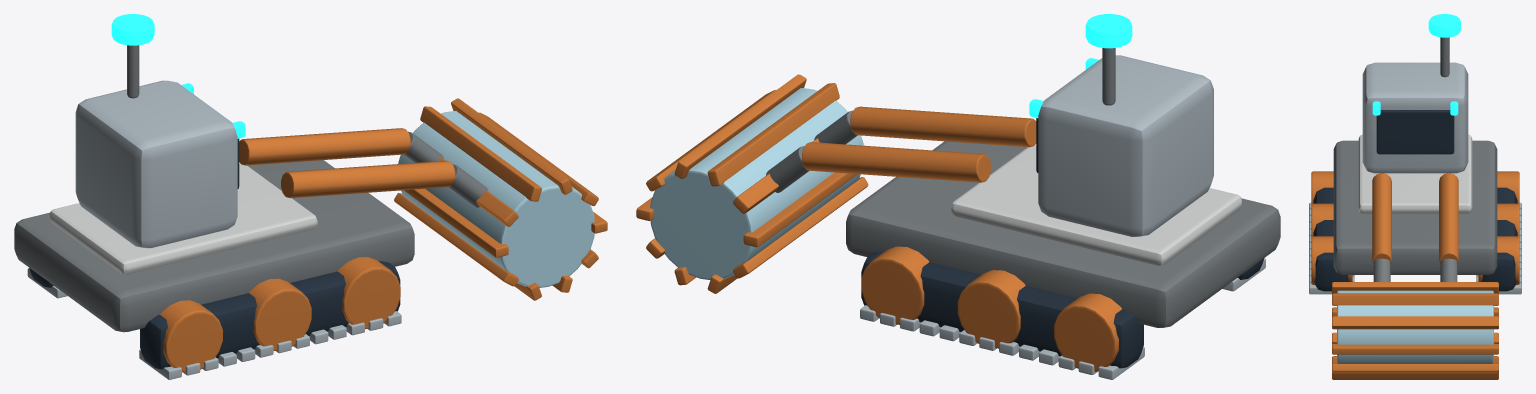
The model's file is polar-excavator.glb.
3 renders of one model, left to right at view 1: azimuth 30°, elevation 25°; view 2: azimuth 150°, elevation 25°; view 3: azimuth 270°, elevation 25°, orthographic. The views are drawn at different scales.
Visible parts, largest first — view 1: RenderBatch_PolarExcavator_POLAR_EXC_Body, RenderBatch_PolarExcavator_POLAR_EXC_Frame, PolarExcavator_AugerDrum, RenderBatch_PolarExcavator_AugerPivot_POLAR_EXC_SafetyOrange, RenderBatch_PolarExcavator_POLAR_EXC_SafetyOrange, RenderBatch_PolarExcavator_BoomPivot_POLAR_EXC_SafetyOrange, PolarExcavator_EquipmentDeck, RenderBatch_PolarExcavator_POLAR_EXC_DarkService, RenderBatch_PolarExcavator_BoomPivot_POLAR_EXC_Frame, RenderBatch_PolarExcavator_POLAR_EXC_StatusLight; view 2: RenderBatch_PolarExcavator_POLAR_EXC_Body, RenderBatch_PolarExcavator_POLAR_EXC_Frame, PolarExcavator_AugerDrum, RenderBatch_PolarExcavator_AugerPivot_POLAR_EXC_SafetyOrange, RenderBatch_PolarExcavator_POLAR_EXC_SafetyOrange, RenderBatch_PolarExcavator_BoomPivot_POLAR_EXC_SafetyOrange, PolarExcavator_EquipmentDeck, RenderBatch_PolarExcavator_POLAR_EXC_DarkService, RenderBatch_PolarExcavator_POLAR_EXC_StatusLight, RenderBatch_PolarExcavator_BoomPivot_POLAR_EXC_Frame; view 3: RenderBatch_PolarExcavator_POLAR_EXC_Frame, RenderBatch_PolarExcavator_AugerPivot_POLAR_EXC_SafetyOrange, RenderBatch_PolarExcavator_POLAR_EXC_Body, PolarExcavator_AugerDrum, RenderBatch_PolarExcavator_POLAR_EXC_DarkService, PolarExcavator_EquipmentDeck, RenderBatch_PolarExcavator_BoomPivot_POLAR_EXC_SafetyOrange, RenderBatch_PolarExcavator_POLAR_EXC_SafetyOrange, RenderBatch_PolarExcavator_POLAR_EXC_StatusLight, RenderBatch_PolarExcavator_BoomPivot_POLAR_EXC_Frame.
Boxes of the visible parts, x1=… form: RenderBatch_PolarExcavator_POLAR_EXC_Body: x1=27, y1=80, x2=401, y2=379; RenderBatch_PolarExcavator_POLAR_EXC_Frame: x1=14, y1=45, x2=414, y2=332; PolarExcavator_AugerDrum: x1=398, y1=111, x2=594, y2=287; RenderBatch_PolarExcavator_AugerPivot_POLAR_EXC_SafetyOrange: x1=394, y1=98, x2=607, y2=300; RenderBatch_PolarExcavator_POLAR_EXC_SafetyOrange: x1=160, y1=257, x2=400, y2=372; RenderBatch_PolarExcavator_BoomPivot_POLAR_EXC_SafetyOrange: x1=239, y1=128, x2=455, y2=198; PolarExcavator_EquipmentDeck: x1=49, y1=164, x2=317, y2=274; RenderBatch_PolarExcavator_POLAR_EXC_DarkService: x1=29, y1=138, x2=400, y2=369; RenderBatch_PolarExcavator_BoomPivot_POLAR_EXC_Frame: x1=404, y1=131, x2=488, y2=207; RenderBatch_PolarExcavator_POLAR_EXC_StatusLight: x1=111, y1=14, x2=245, y2=138; RenderBatch_PolarExcavator_POLAR_EXC_Body: x1=860, y1=55, x2=1265, y2=379; RenderBatch_PolarExcavator_POLAR_EXC_Frame: x1=846, y1=48, x2=1280, y2=327; PolarExcavator_AugerDrum: x1=650, y1=88, x2=863, y2=279; RenderBatch_PolarExcavator_AugerPivot_POLAR_EXC_SafetyOrange: x1=636, y1=74, x2=868, y2=293; RenderBatch_PolarExcavator_POLAR_EXC_SafetyOrange: x1=861, y1=246, x2=1121, y2=371; RenderBatch_PolarExcavator_BoomPivot_POLAR_EXC_SafetyOrange: x1=802, y1=106, x2=1036, y2=182; PolarExcavator_EquipmentDeck: x1=951, y1=145, x2=1241, y2=265; RenderBatch_PolarExcavator_POLAR_EXC_DarkService: x1=861, y1=118, x2=1264, y2=368; RenderBatch_PolarExcavator_POLAR_EXC_StatusLight: x1=1029, y1=14, x2=1132, y2=118; RenderBatch_PolarExcavator_BoomPivot_POLAR_EXC_Frame: x1=766, y1=110, x2=857, y2=192; RenderBatch_PolarExcavator_POLAR_EXC_Frame: x1=1333, y1=37, x2=1497, y2=274; RenderBatch_PolarExcavator_AugerPivot_POLAR_EXC_SafetyOrange: x1=1332, y1=282, x2=1498, y2=379; RenderBatch_PolarExcavator_POLAR_EXC_Body: x1=1309, y1=62, x2=1521, y2=294; PolarExcavator_AugerDrum: x1=1337, y1=290, x2=1493, y2=363; RenderBatch_PolarExcavator_POLAR_EXC_DarkService: x1=1313, y1=110, x2=1517, y2=291; PolarExcavator_EquipmentDeck: x1=1358, y1=134, x2=1472, y2=213; RenderBatch_PolarExcavator_BoomPivot_POLAR_EXC_SafetyOrange: x1=1372, y1=173, x2=1458, y2=264; RenderBatch_PolarExcavator_POLAR_EXC_SafetyOrange: x1=1311, y1=171, x2=1519, y2=284; RenderBatch_PolarExcavator_POLAR_EXC_StatusLight: x1=1372, y1=14, x2=1460, y2=115; RenderBatch_PolarExcavator_BoomPivot_POLAR_EXC_Frame: x1=1373, y1=258, x2=1457, y2=281.
Size of the model in its own units: 6.33 by 3.76 by 3.18.
